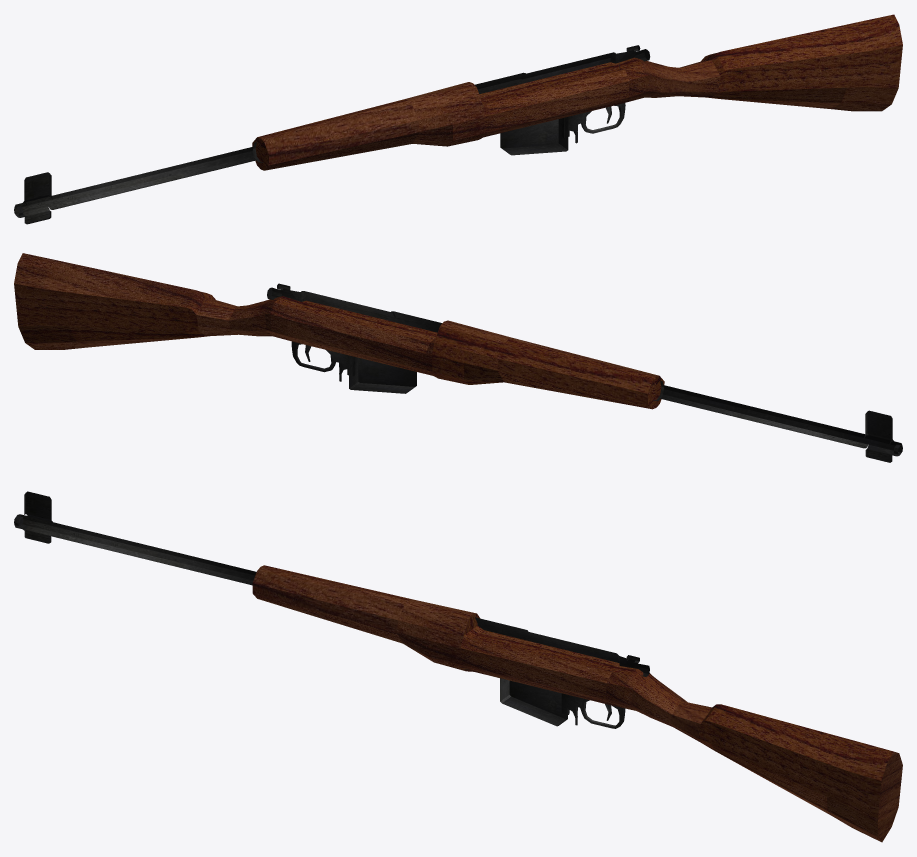
File: Sedatgun.fbx
The picture shows the model from 3 angles, top to bottom: view 1: azimuth 30°, elevation 25°; view 2: azimuth 150°, elevation 25°; view 3: azimuth 330°, elevation 25°; orthographic projection.
Visible parts, largest first — view 1: Rifle; view 2: Rifle; view 3: Rifle.
Part boxes in pixels (<box>): Rifle: <box>14,14,902,224</box>; Rifle: <box>14,253,902,462</box>; Rifle: <box>14,491,902,842</box>.
Size of the model in its own units: 725 by 112 by 34.69.
